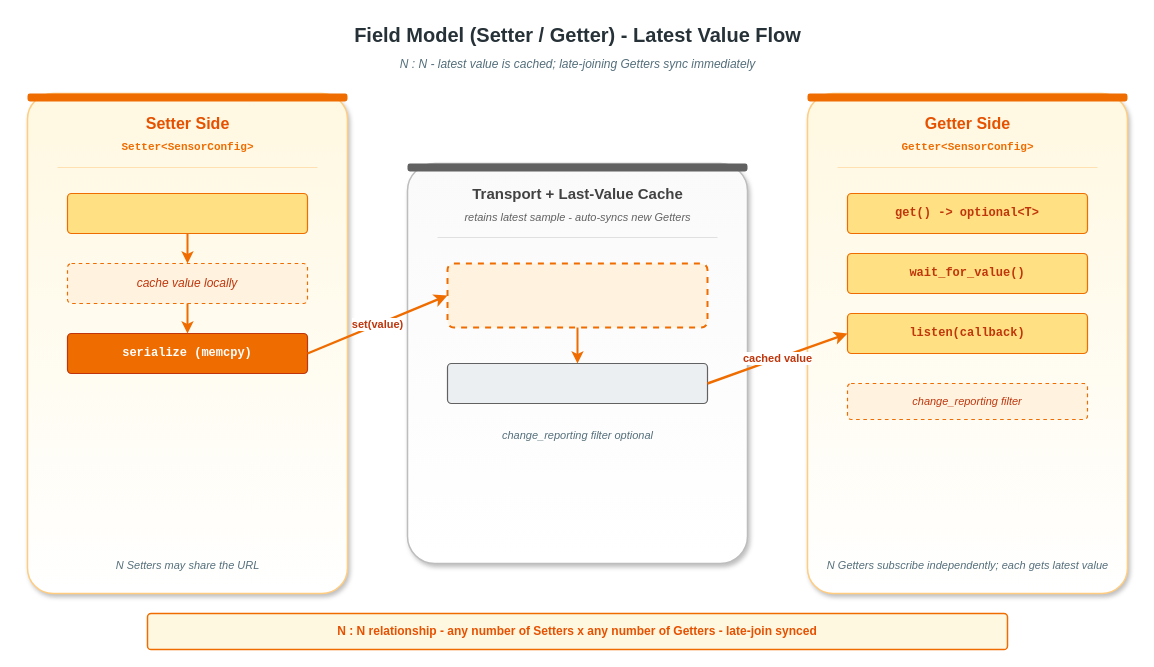
Some shapes in this 1154 by 667 pixel diagram are drawn without their labels. The centre of each missing label's shape, as x and y in pixels:
deliver on change / on join: the point at 577,383
Latest Value cached for late-join sync: the point at 577,295
set(config): the point at 187,213
